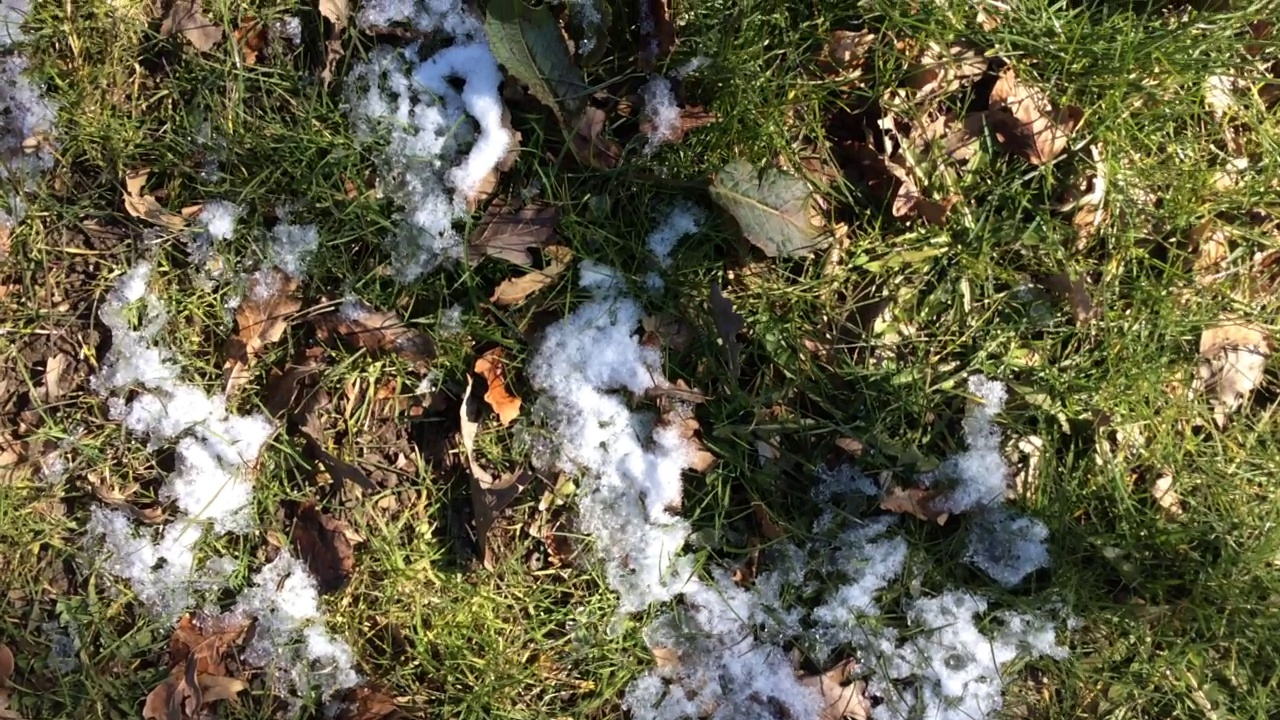root: (575, 137, 676, 204)
rumex: (478, 1, 835, 268)
